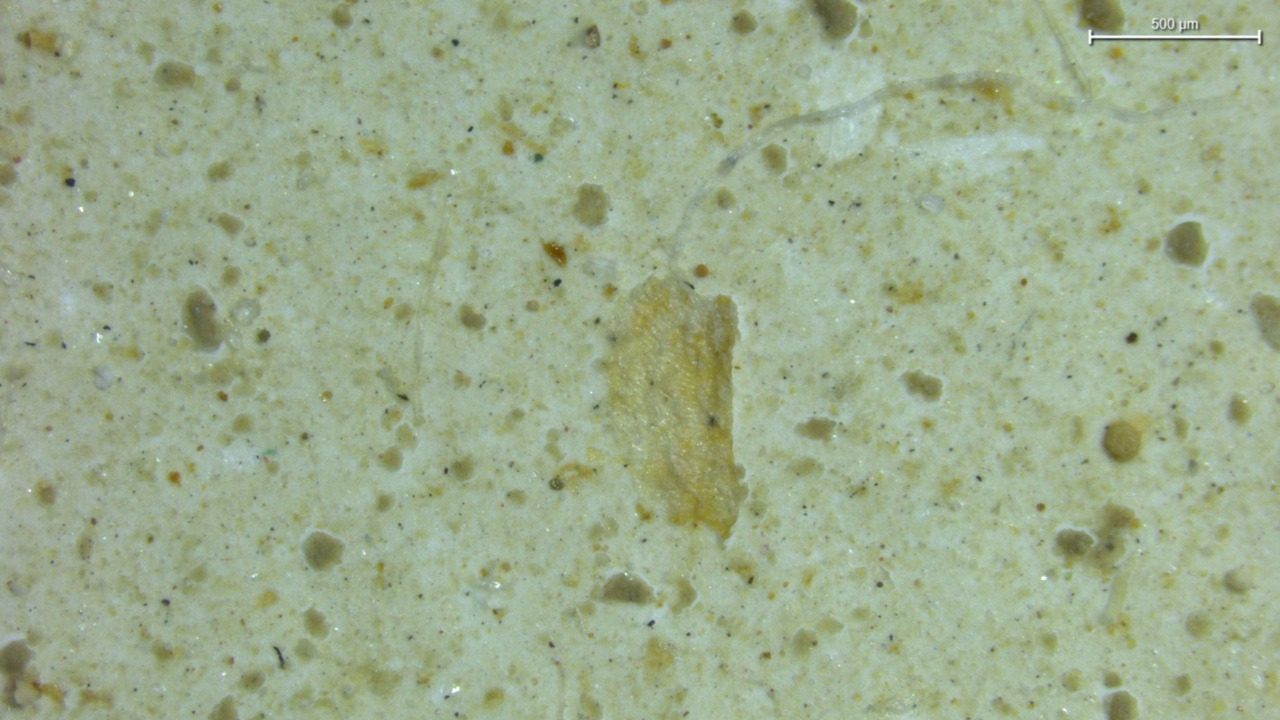microplastic_fragment: (606, 277, 746, 535)
